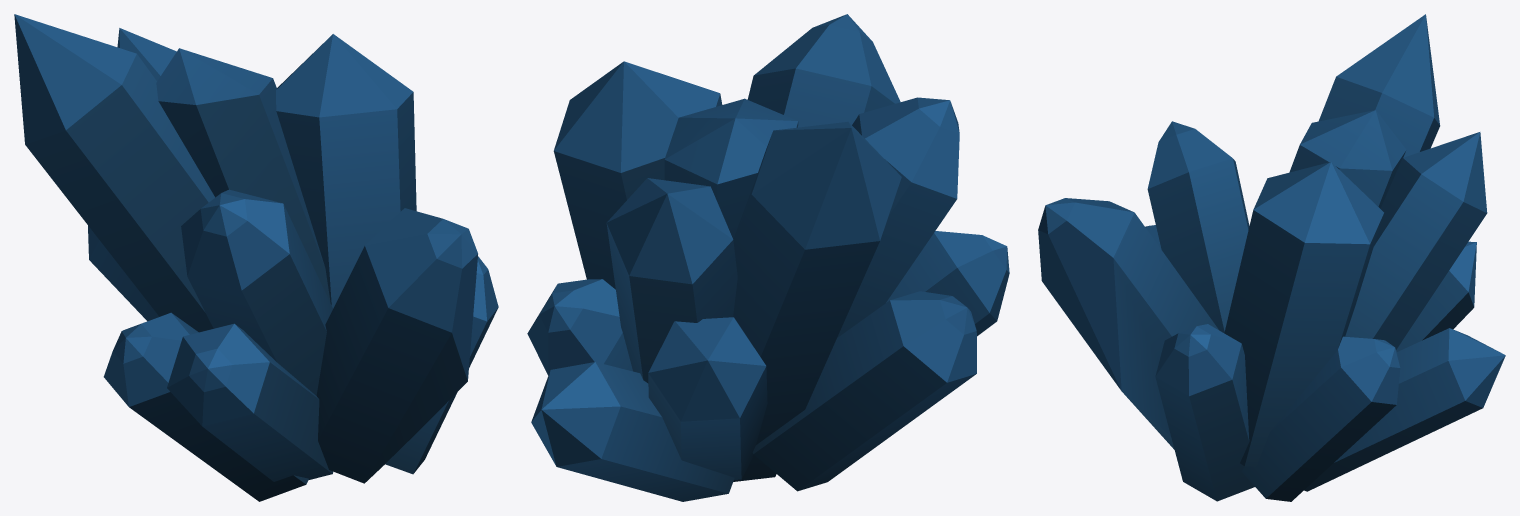
The model's file is CrystalCluster_Medium5.fbx.
The picture shows the model from 3 angles, left to right: view 1: azimuth 30°, elevation 25°; view 2: azimuth 150°, elevation 25°; view 3: azimuth 270°, elevation 25°; orthographic projection. The views are drawn at different scales.
Parts seen in each view (by area): view 1: CrystalCluster_Medium5; view 2: CrystalCluster_Medium5; view 3: CrystalCluster_Medium5.
Part boxes in pixels (x1=…): CrystalCluster_Medium5: x1=14, y1=14, x2=498, y2=501; CrystalCluster_Medium5: x1=527, y1=14, x2=1009, y2=501; CrystalCluster_Medium5: x1=1038, y1=14, x2=1505, y2=501.
Size of the model in its own units: 157 by 190 by 210.
